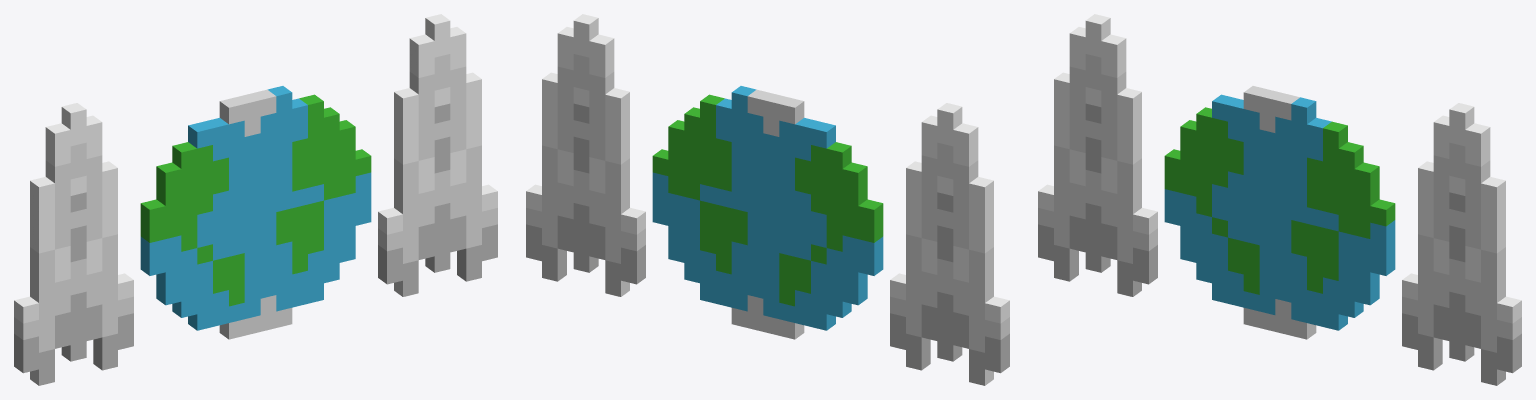
Rendered from Shelter 3.fbx.
The picture shows the model from 3 angles, left to right: view 1: azimuth 30°, elevation 25°; view 2: azimuth 150°, elevation 25°; view 3: azimuth 330°, elevation 25°; orthographic projection.
Visible parts, largest first — view 1: Shelter 1.2; view 2: Shelter 1.2; view 3: Shelter 1.2.
Part boxes in pixels (<box>): Shelter 1.2: <box>14,14,497,385</box>; Shelter 1.2: <box>526,14,1009,385</box>; Shelter 1.2: <box>1038,14,1521,385</box>.
Bounding box in the file's own units: 30 × 16 × 1.
